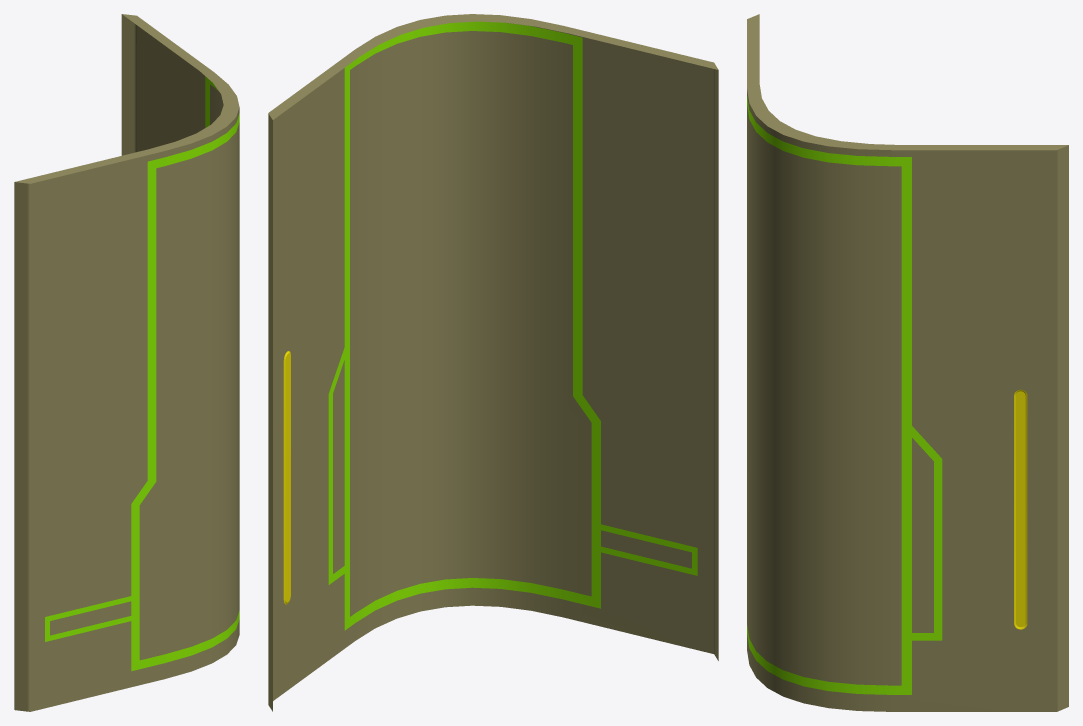
The model's file is Building_Wall_02e_snaps016.fbx.
3 renders of one model, left to right at view 1: azimuth 30°, elevation 25°; view 2: azimuth 150°, elevation 25°; view 3: azimuth 270°, elevation 25°, orthographic. The views are drawn at different scales.
Visible parts, largest first — view 1: Building_Wall_02e_snaps016_LOD0; view 2: Building_Wall_02e_snaps016_LOD0; view 3: Building_Wall_02e_snaps016_LOD0.
Boxes of the visible parts, x1,y1,x2,y2 form: Building_Wall_02e_snaps016_LOD0: (14, 14, 239, 711); Building_Wall_02e_snaps016_LOD0: (268, 14, 718, 711); Building_Wall_02e_snaps016_LOD0: (747, 14, 1068, 711).
Size of what is drawn, in the model's own units: 3.12 by 6 by 3.11.
